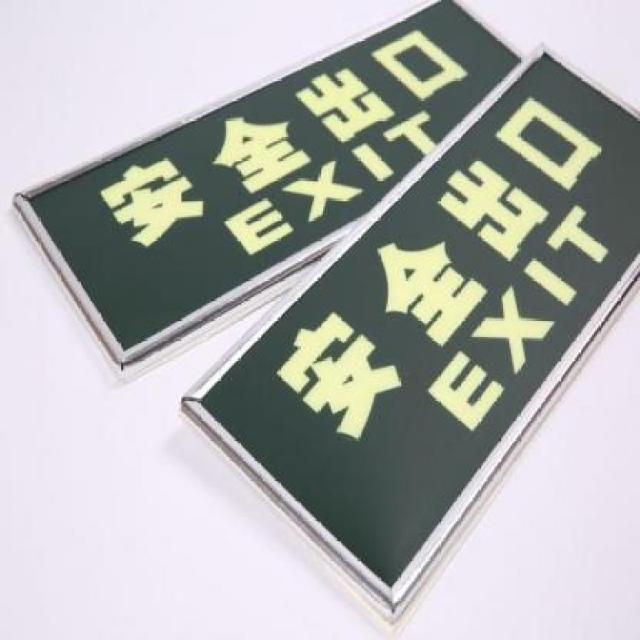exit_sign: (11, 4, 539, 372)
